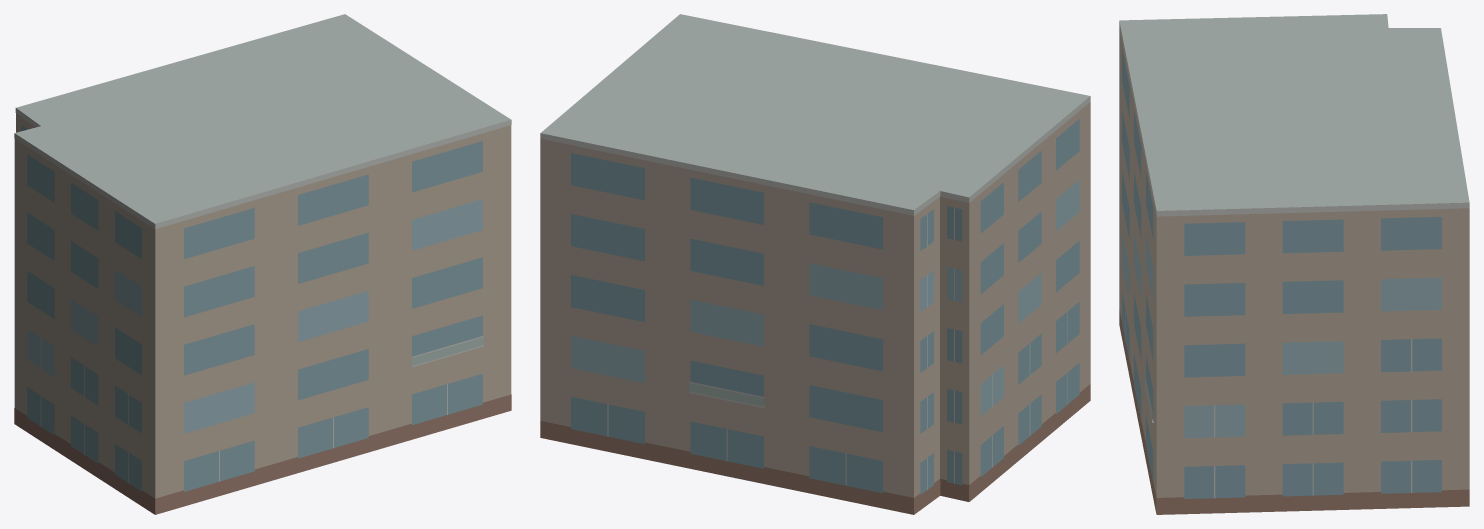
File: survey-upis-32758355.glb
3 views of the same model, side by side, from view 1: azimuth 30°, elevation 25°; view 2: azimuth 150°, elevation 25°; view 3: azimuth 270°, elevation 25° (orthographic). The views are drawn at different scales.
Parts seen in each view (by area): view 1: survey-upis-32758355.tmp; view 2: survey-upis-32758355.tmp; view 3: survey-upis-32758355.tmp.
Part boxes in pixels (box(x1,y1,x2,y2)): survey-upis-32758355.tmp: box(14, 14, 511, 514); survey-upis-32758355.tmp: box(540, 14, 1090, 514); survey-upis-32758355.tmp: box(1119, 14, 1469, 514).
Bounding box in the file's own units: 18.36 × 13.2 × 13.8.
